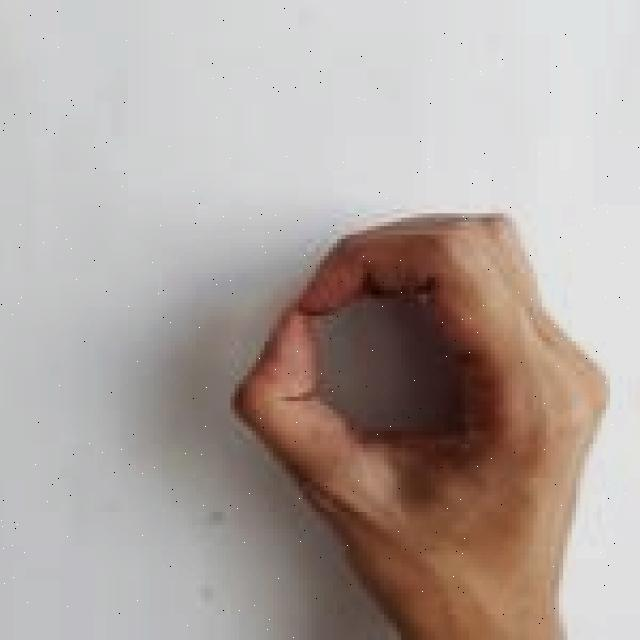O: (226, 197, 615, 640)
